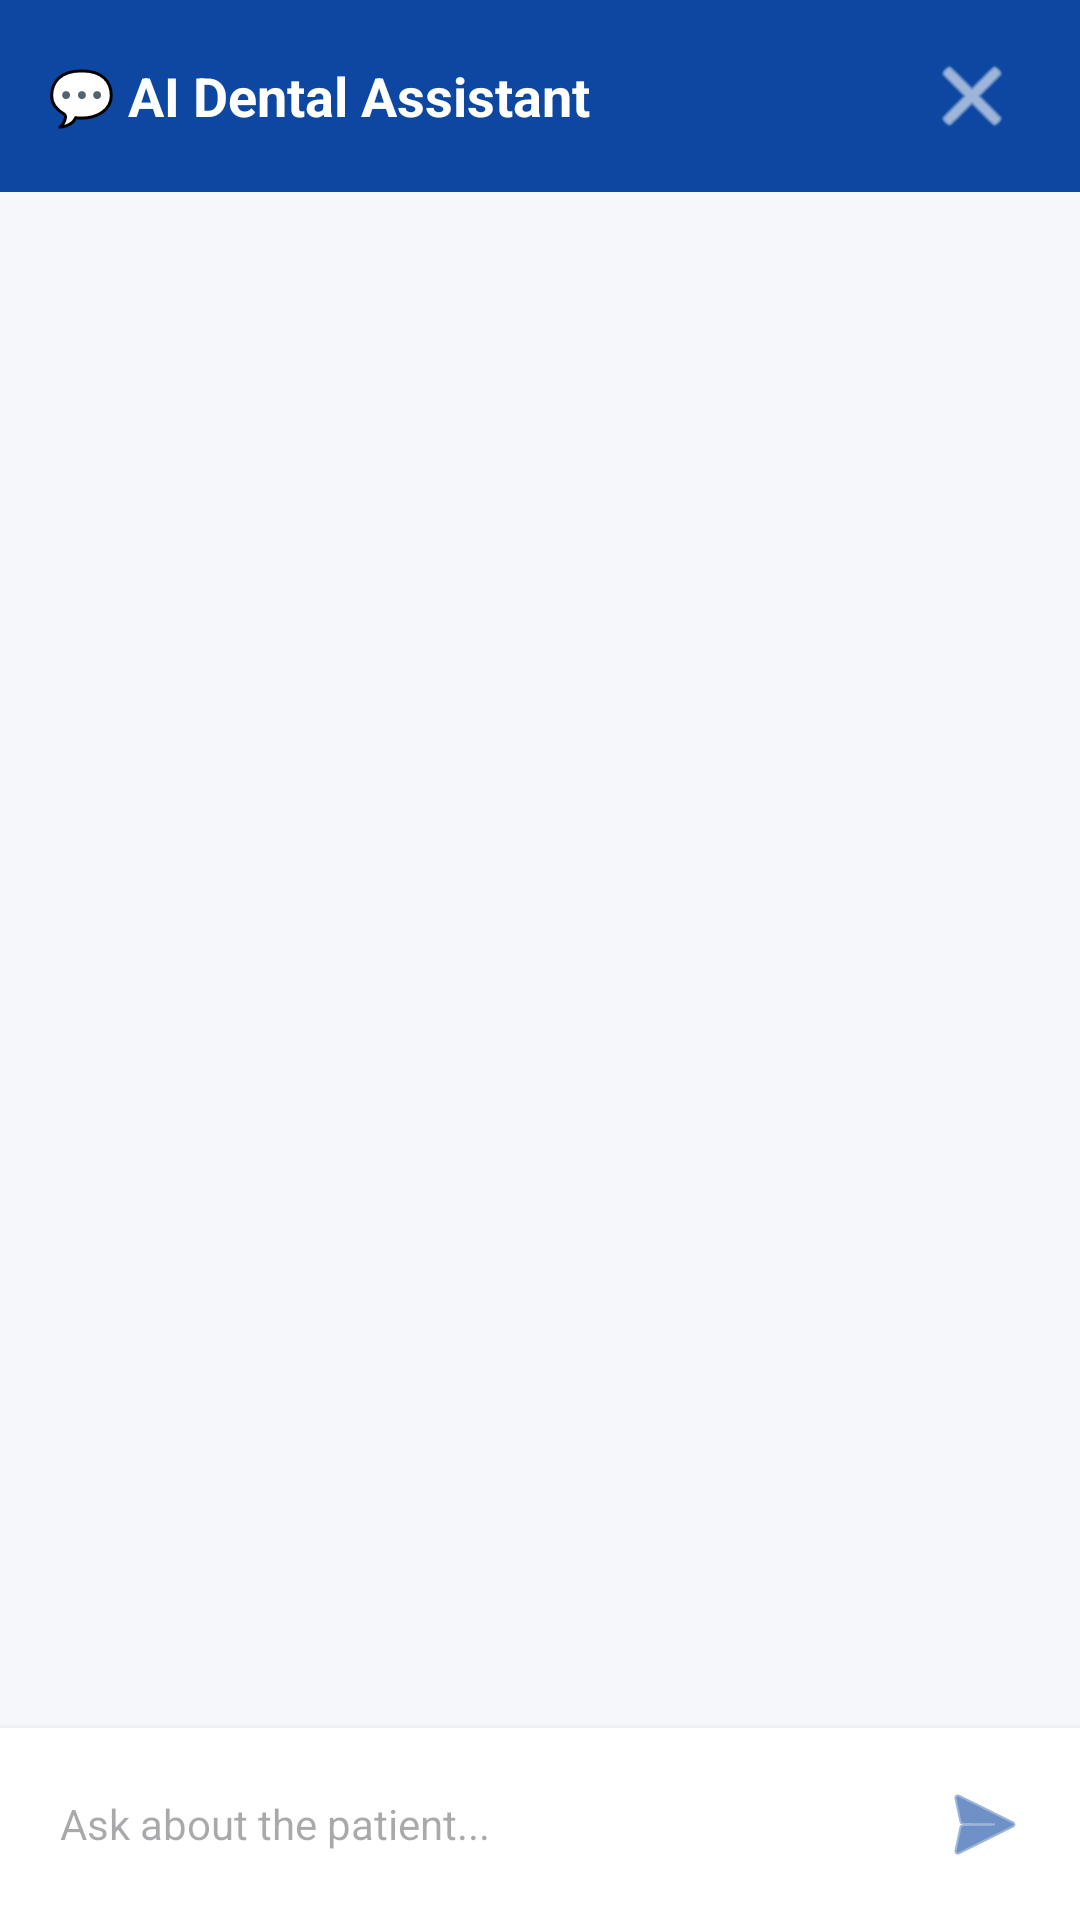

Screen size 1080*1920. Icon name, then its box in pixels as (x1, y1, x2, y2):
close clear cancel: (942, 66, 1002, 126)
send: (954, 1794, 1016, 1855)
